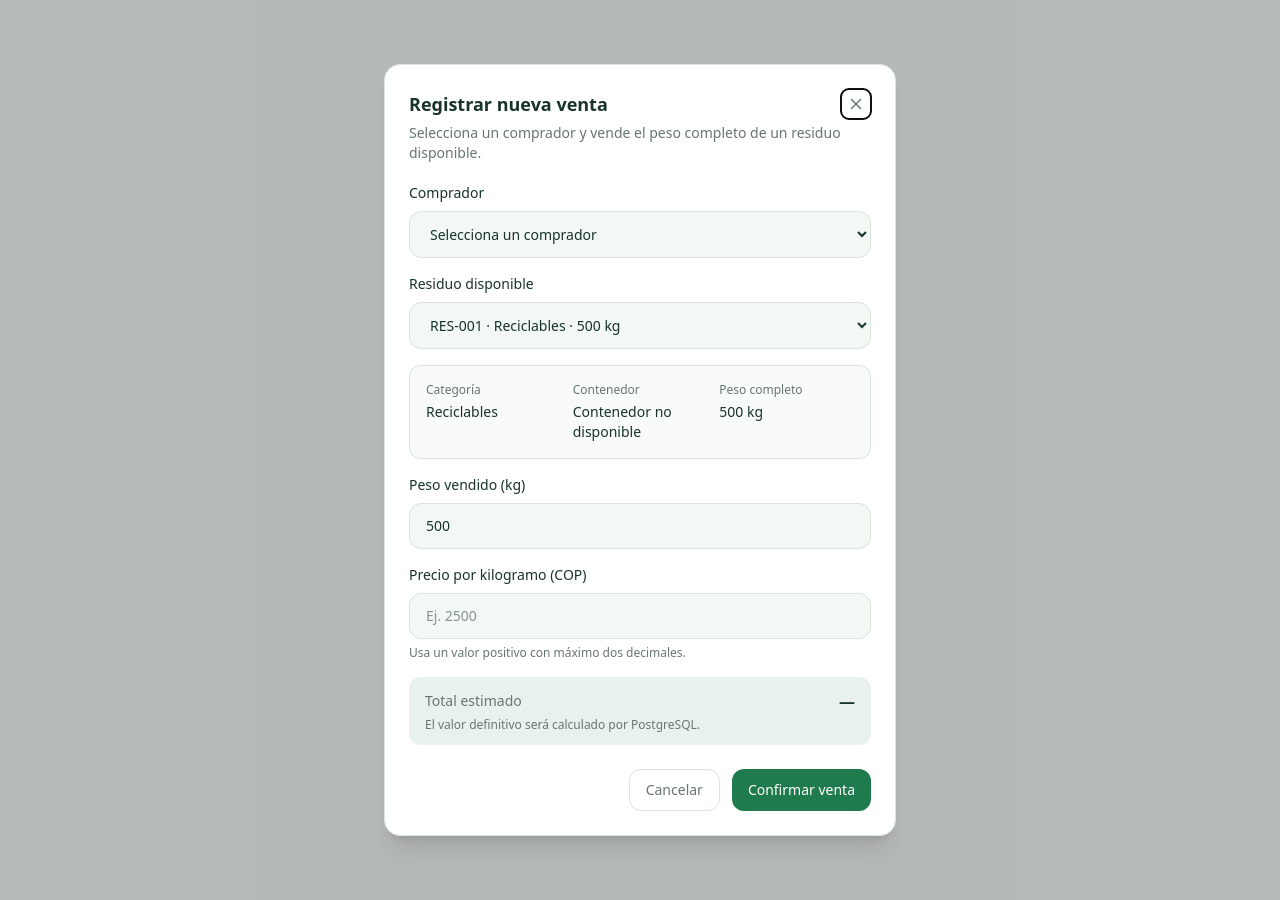
Test: SaleRegistrationModal Component - Venta de Residuos y Accesibilidad › 2. Bloquea el envío y muestra errores visuales cuando el formulario está incompleto
Click the button "Confirmar venta" at (801, 790), box 732,769 -> 871,811
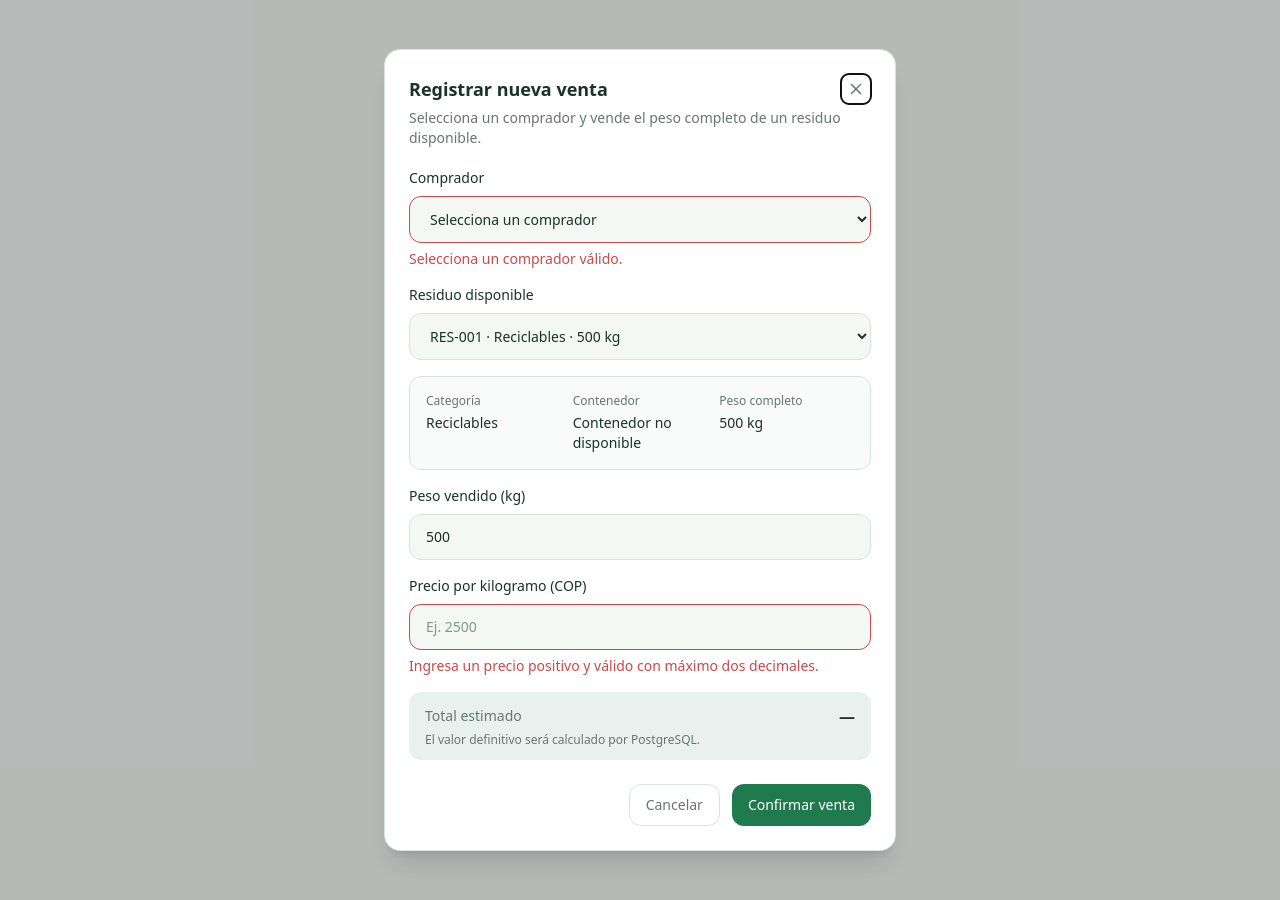
expect the message "Selecciona un comprador válido." is shown: met, box 409,249 -> 622,268
